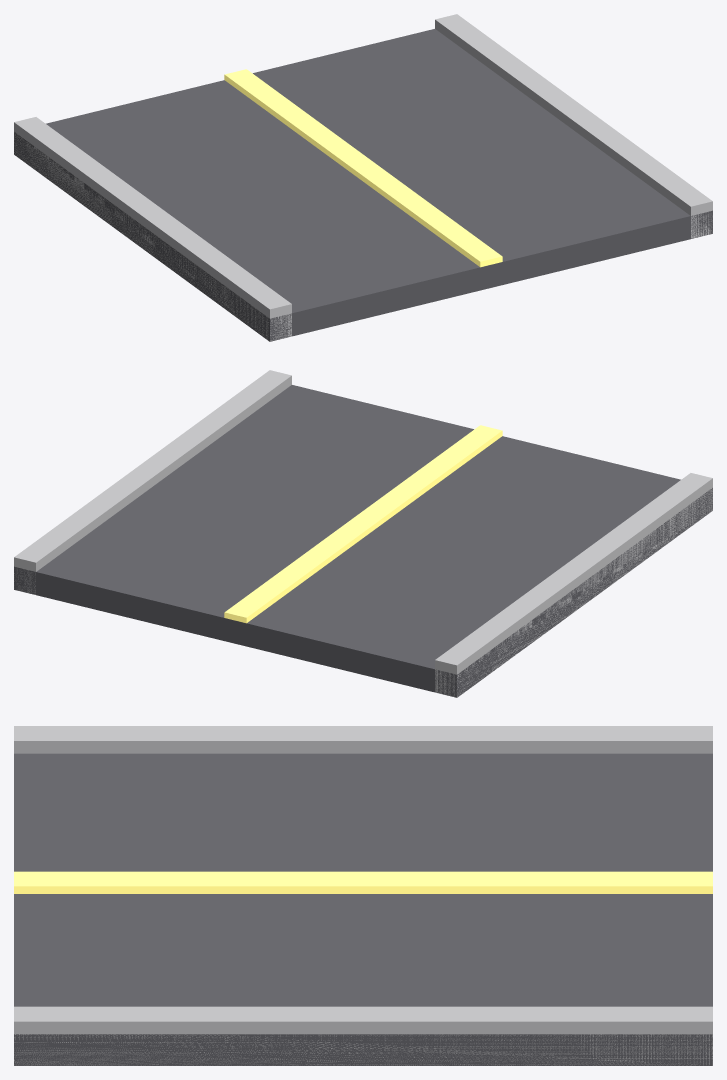
File: road_straight_1.glb
3 renders of one model, top to bottom at view 1: azimuth 30°, elevation 25°; view 2: azimuth 150°, elevation 25°; view 3: azimuth 270°, elevation 25°, orthographic. The views are drawn at different scales.
Parts seen in each view (by area): view 1: road_straight_1; view 2: road_straight_1; view 3: road_straight_1.
Part boxes in pixels (box(x1,y1,x2,y2)): road_straight_1: box(14, 14, 712, 341); road_straight_1: box(14, 370, 712, 697); road_straight_1: box(14, 726, 712, 1065).
Size of the model in its own units: 1 by 0.07 by 1.
